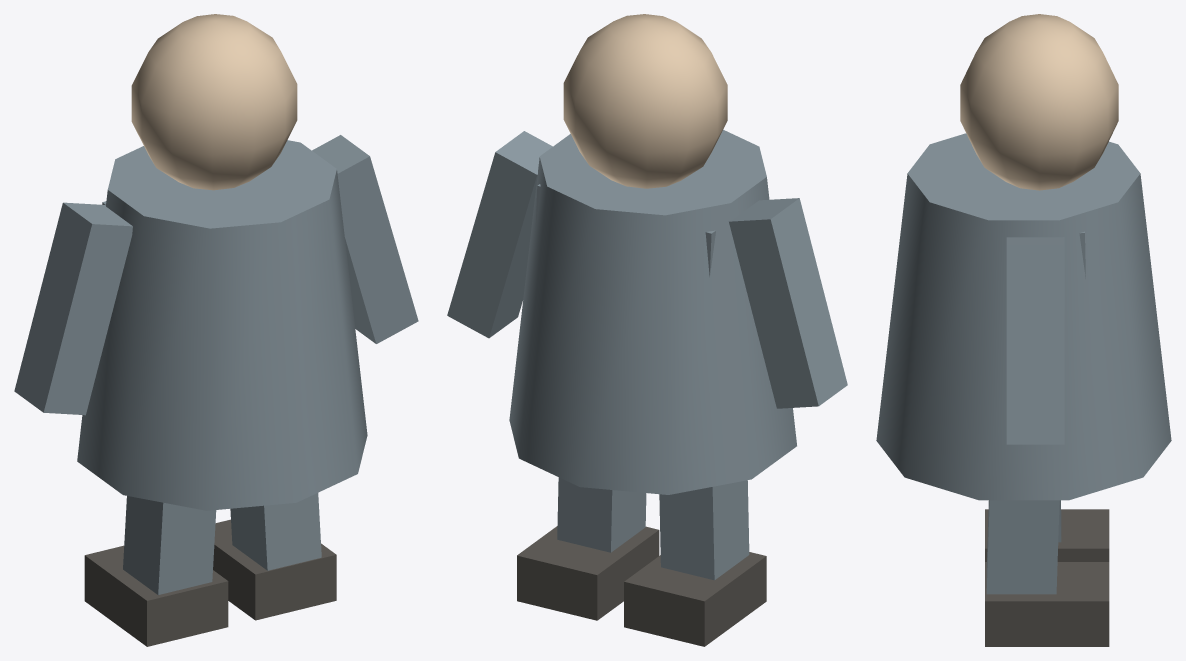
Rendered from trader_npc.glb.
3 views of the same model, side by side, from view 1: azimuth 30°, elevation 25°; view 2: azimuth 150°, elevation 25°; view 3: azimuth 270°, elevation 25° (orthographic).
Visible parts, largest first — view 1: torso, head, left_arm, right_arm, left_boot, left_leg, right_boot, right_leg; view 2: torso, head, left_arm, right_arm, left_boot, right_boot, left_leg, right_leg; view 3: torso, head, right_arm, right_boot, right_leg, left_boot.
Boxes of the visible parts, bbox=[...] form: torso: bbox=[77, 140, 367, 510]; head: bbox=[131, 14, 297, 190]; left_arm: bbox=[14, 202, 132, 415]; right_arm: bbox=[312, 135, 418, 343]; left_boot: bbox=[84, 545, 228, 646]; left_leg: bbox=[123, 496, 216, 594]; right_boot: bbox=[213, 519, 336, 620]; right_leg: bbox=[230, 493, 321, 570]; torso: bbox=[509, 129, 796, 494]; head: bbox=[563, 14, 727, 188]; left_arm: bbox=[729, 198, 847, 408]; right_arm: bbox=[447, 131, 552, 338]; left_boot: bbox=[624, 552, 766, 646]; right_boot: bbox=[517, 526, 659, 620]; left_leg: bbox=[659, 480, 749, 580]; right_leg: bbox=[557, 477, 646, 552]; torso: bbox=[876, 133, 1171, 500]; head: bbox=[960, 14, 1118, 190]; right_arm: bbox=[1006, 237, 1064, 444]; right_boot: bbox=[985, 562, 1109, 646]; right_leg: bbox=[986, 500, 1059, 594]; left_boot: bbox=[985, 509, 1109, 561].
Bounding box in the file's own units: 1.11 × 1.65 × 0.76.
